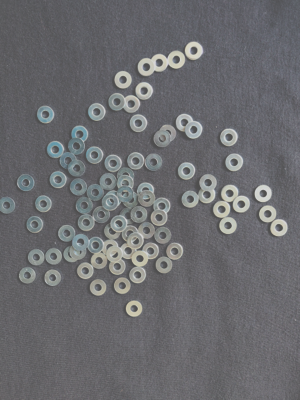circle: (268, 217, 289, 239), (219, 215, 239, 237), (185, 41, 205, 61), (86, 103, 106, 122), (254, 185, 274, 204), (154, 257, 175, 275), (114, 71, 133, 90), (136, 82, 155, 101), (36, 105, 55, 124), (18, 267, 37, 286), (151, 53, 169, 73), (168, 50, 186, 70), (175, 114, 195, 132), (212, 201, 232, 219), (258, 206, 278, 224), (25, 216, 45, 234), (137, 59, 156, 77), (107, 94, 126, 112), (122, 95, 141, 113), (185, 121, 203, 140), (104, 154, 122, 173), (127, 152, 145, 171), (199, 174, 218, 192), (117, 176, 136, 194), (87, 184, 105, 203), (63, 245, 81, 264), (27, 250, 46, 268), (77, 215, 97, 232), (125, 301, 145, 318), (129, 115, 147, 133), (220, 129, 238, 147), (46, 141, 64, 159), (146, 154, 164, 172), (221, 185, 239, 203), (137, 182, 155, 200), (166, 243, 184, 261), (114, 278, 132, 296), (120, 243, 138, 261), (77, 262, 95, 280), (58, 225, 76, 243), (70, 243, 88, 261), (49, 172, 67, 190), (110, 216, 129, 233), (154, 130, 171, 148), (159, 125, 177, 142), (72, 125, 89, 143), (68, 138, 85, 156), (225, 154, 243, 171), (178, 162, 195, 180), (182, 191, 200, 208), (233, 196, 251, 213), (118, 168, 136, 185), (117, 186, 135, 203), (75, 197, 93, 214), (92, 206, 110, 223), (138, 222, 156, 239), (142, 243, 160, 260), (129, 267, 147, 284), (102, 240, 120, 257), (89, 280, 107, 297), (44, 270, 62, 287), (35, 195, 52, 213), (17, 175, 35, 192), (121, 192, 140, 208), (103, 224, 122, 240), (60, 153, 77, 170), (69, 161, 86, 178), (86, 147, 103, 164), (154, 198, 171, 215), (131, 207, 148, 224), (121, 226, 138, 243), (132, 251, 149, 268), (109, 259, 126, 276), (91, 253, 108, 270), (45, 249, 62, 266), (198, 189, 216, 205), (70, 179, 88, 195), (151, 210, 169, 226), (154, 228, 172, 244), (106, 247, 124, 263), (99, 173, 116, 189), (139, 192, 156, 208), (106, 191, 122, 208), (102, 195, 119, 211), (120, 208, 136, 225), (127, 233, 144, 249), (88, 237, 104, 254), (73, 234, 89, 251), (1, 197, 16, 215)
